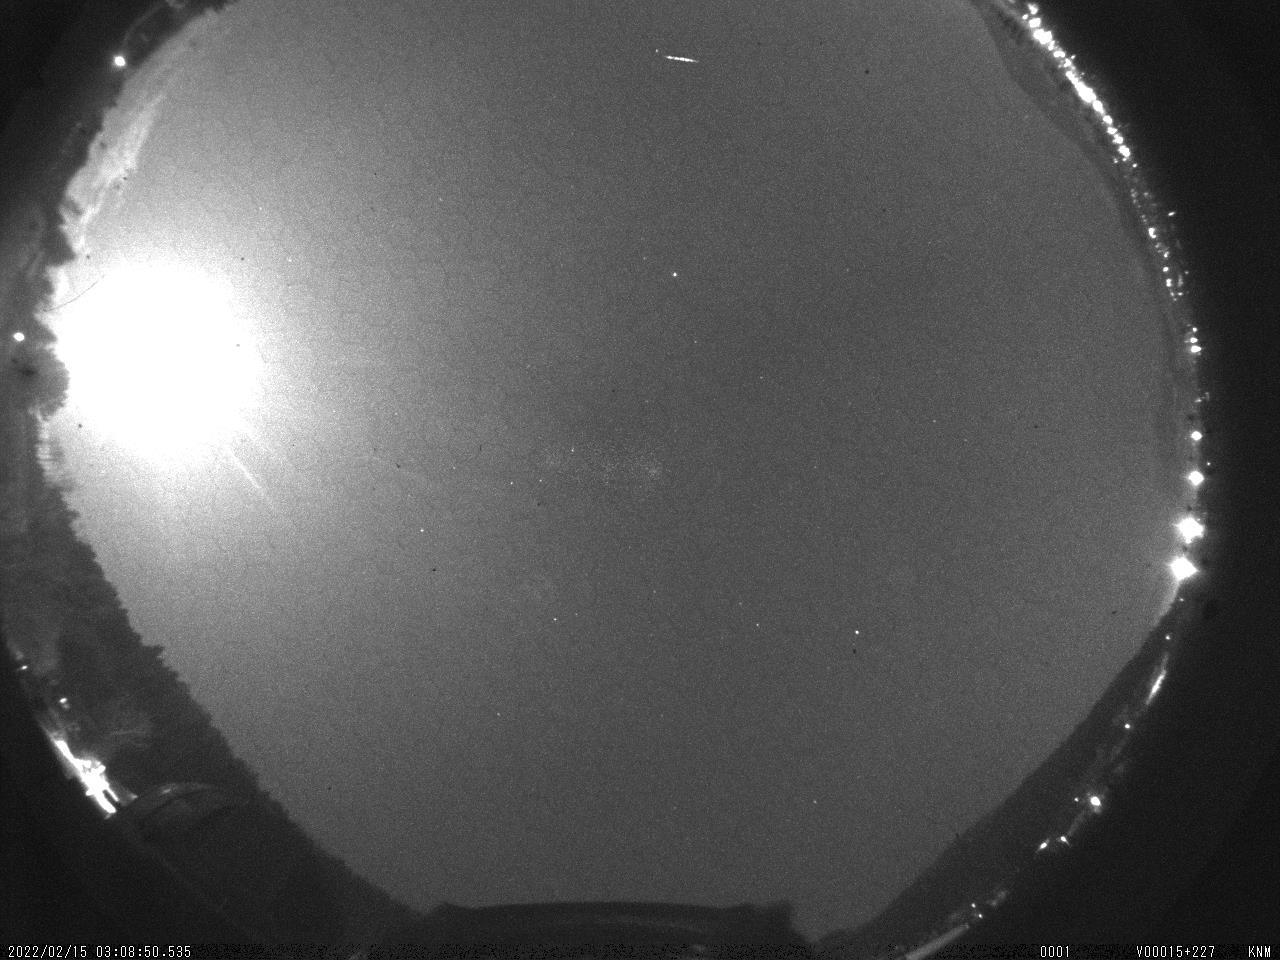Meteor: (659, 48, 703, 71)
